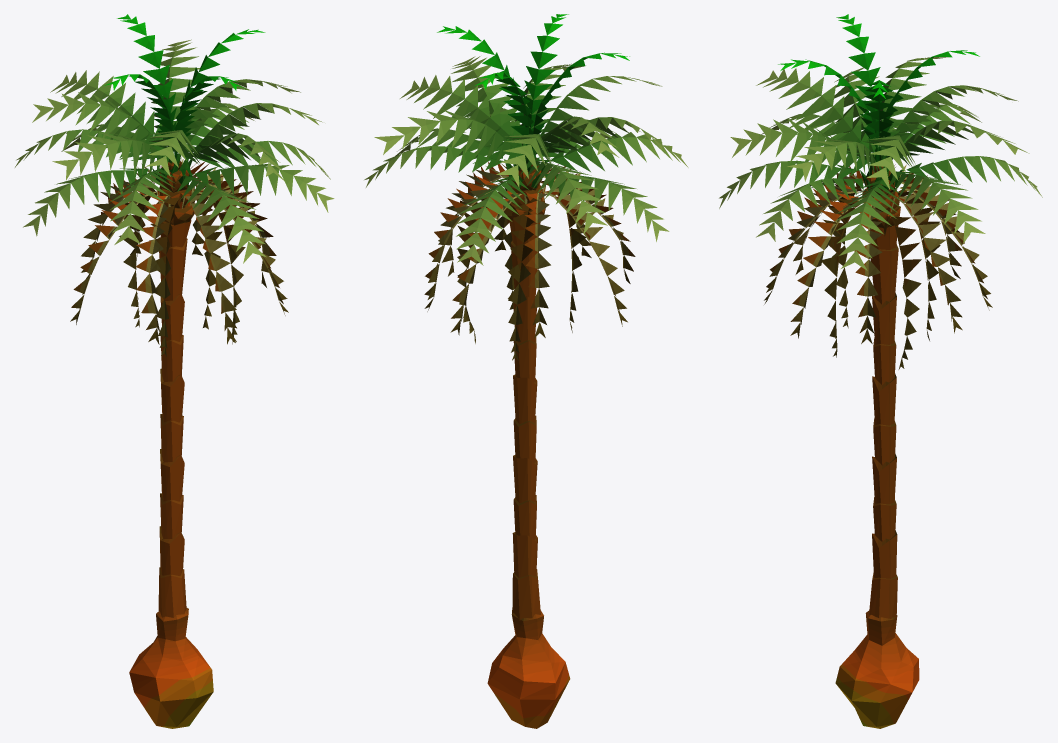
File: palm-date.glb
3 renders of one model, left to right at view 1: azimuth 30°, elevation 25°; view 2: azimuth 150°, elevation 25°; view 3: azimuth 270°, elevation 25°, orthographic.
Visible parts, largest first — view 1: ExoticPalmDefaltLeaves, ExoticPalmDefaltBasicBark.001, ExoticPalmDefaltLeavesFalen, ExoticPalmDefaltGroundBase, ExoticPalmDefaltYoungLeaves, ExoticPalmDefaltDeathLeaves, ExoticPalmDefaltExtraBark; view 2: ExoticPalmDefaltLeaves, ExoticPalmDefaltBasicBark.001, ExoticPalmDefaltLeavesFalen, ExoticPalmDefaltGroundBase, ExoticPalmDefaltYoungLeaves, ExoticPalmDefaltDeathLeaves, ExoticPalmDefaltExtraBark; view 3: ExoticPalmDefaltLeaves, ExoticPalmDefaltBasicBark.001, ExoticPalmDefaltLeavesFalen, ExoticPalmDefaltGroundBase, ExoticPalmDefaltDeathLeaves, ExoticPalmDefaltYoungLeaves, ExoticPalmDefaltExtraBark.
Boxes of the visible parts, x1,y1,x2,y2 form: ExoticPalmDefaltLeaves: (15, 39, 334, 263); ExoticPalmDefaltBasicBark.001: (158, 201, 191, 617); ExoticPalmDefaltLeavesFalen: (70, 156, 288, 344); ExoticPalmDefaltGroundBase: (129, 608, 213, 728); ExoticPalmDefaltYoungLeaves: (104, 14, 265, 157); ExoticPalmDefaltDeathLeaves: (119, 185, 245, 356); ExoticPalmDefaltExtraBark: (156, 161, 194, 225); ExoticPalmDefaltLeaves: (364, 56, 688, 265); ExoticPalmDefaltBasicBark.001: (509, 211, 540, 620); ExoticPalmDefaltLeavesFalen: (424, 161, 635, 338); ExoticPalmDefaltGroundBase: (487, 607, 570, 728); ExoticPalmDefaltYoungLeaves: (437, 14, 629, 148); ExoticPalmDefaltDeathLeaves: (457, 167, 585, 360); ExoticPalmDefaltExtraBark: (504, 158, 545, 222); ExoticPalmDefaltLeaves: (719, 57, 1042, 270); ExoticPalmDefaltBasicBark.001: (868, 213, 899, 618); ExoticPalmDefaltLeavesFalen: (764, 164, 992, 343); ExoticPalmDefaltGroundBase: (835, 610, 919, 728); ExoticPalmDefaltDeathLeaves: (820, 174, 940, 369); ExoticPalmDefaltYoungLeaves: (778, 14, 979, 161); ExoticPalmDefaltExtraBark: (862, 166, 900, 227).
Bounding box in the file's own units: 4.97 × 11.41 × 4.96.
Materials: 1 (1 with a texture image).
